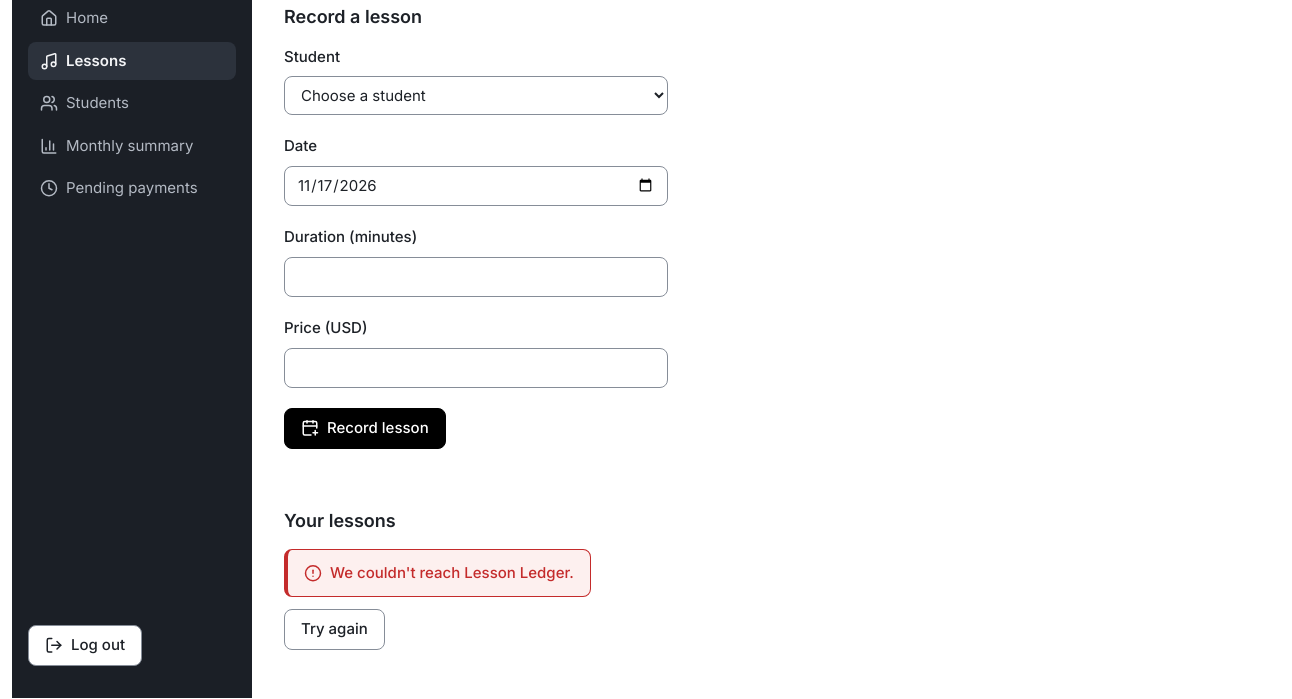
Test: AC-2 lessons page › offers Try again when GET /api/lessons?page=1&page_size=500 fails
(page scrolled)
Expected: the text "We couldn't reach Lesson Ledger." is shown, [284,549,591,598]
Click the button "Try again" at {"x": 334, "y": 630}, box [284,610,385,650]
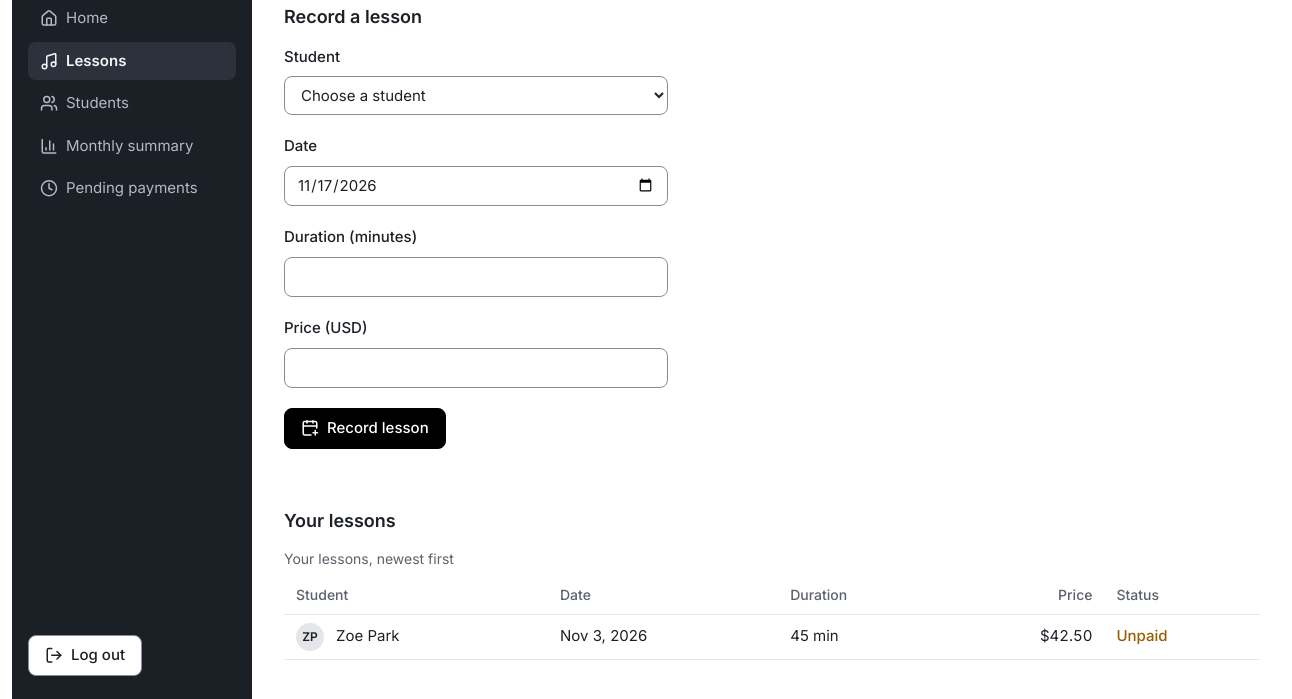
Expected: the dropdown labelled "Student" is shown, [284,76,668,115]
Result: the text "We couldn't reach Lesson Ledger." is gone
Result: the table is shown at [284,549,1260,660]
